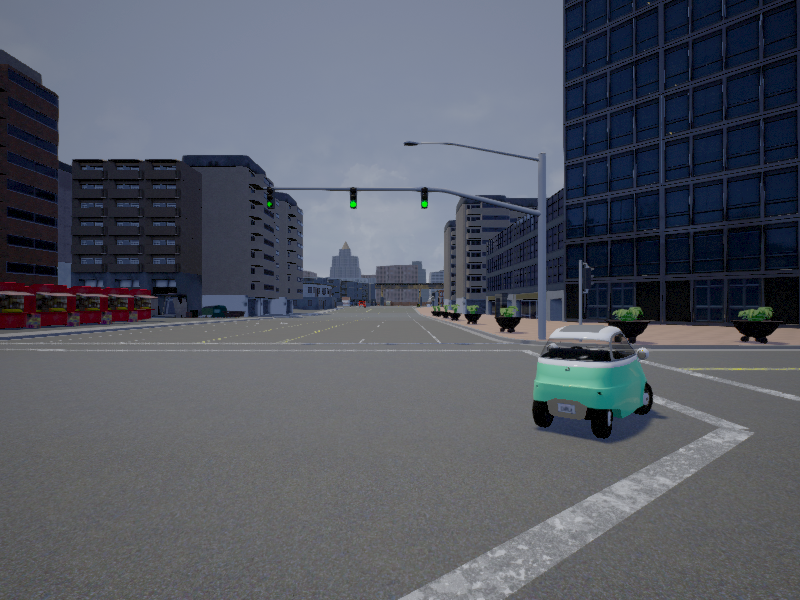Benign: (536, 323, 654, 440)
